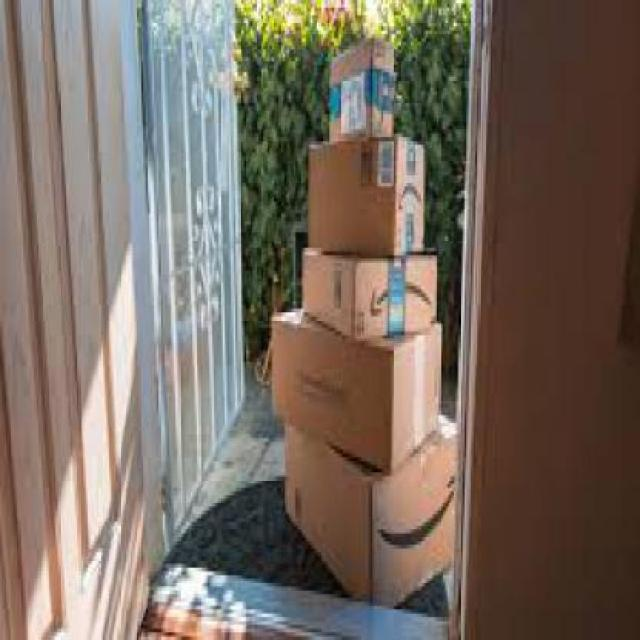cardboxes: (281, 416, 464, 610), (272, 305, 450, 463), (309, 132, 428, 258), (302, 240, 443, 340), (327, 37, 395, 143)
